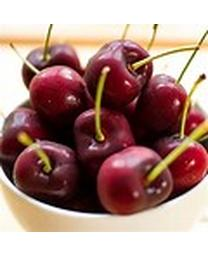cherry: (99, 145, 173, 216), (14, 138, 79, 205), (86, 41, 152, 106), (71, 105, 135, 165), (141, 74, 190, 142), (29, 68, 86, 118)
